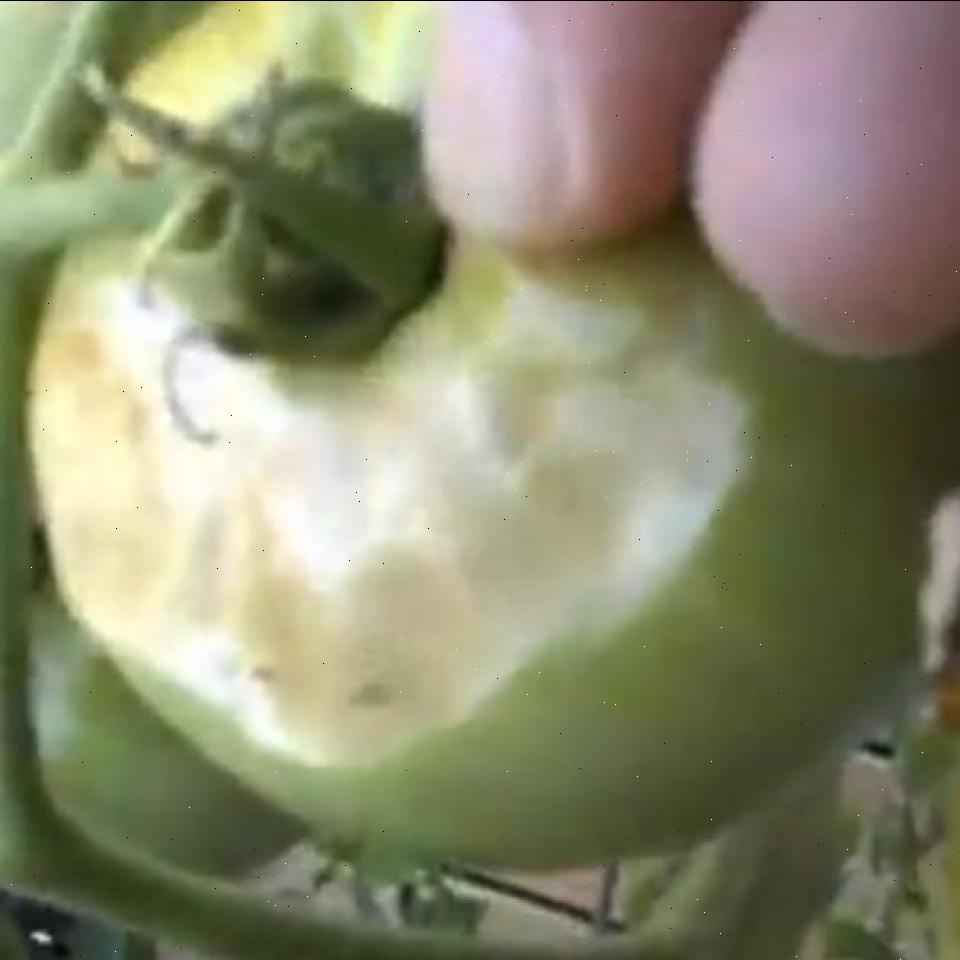Sunscald: (29, 269, 780, 778)
